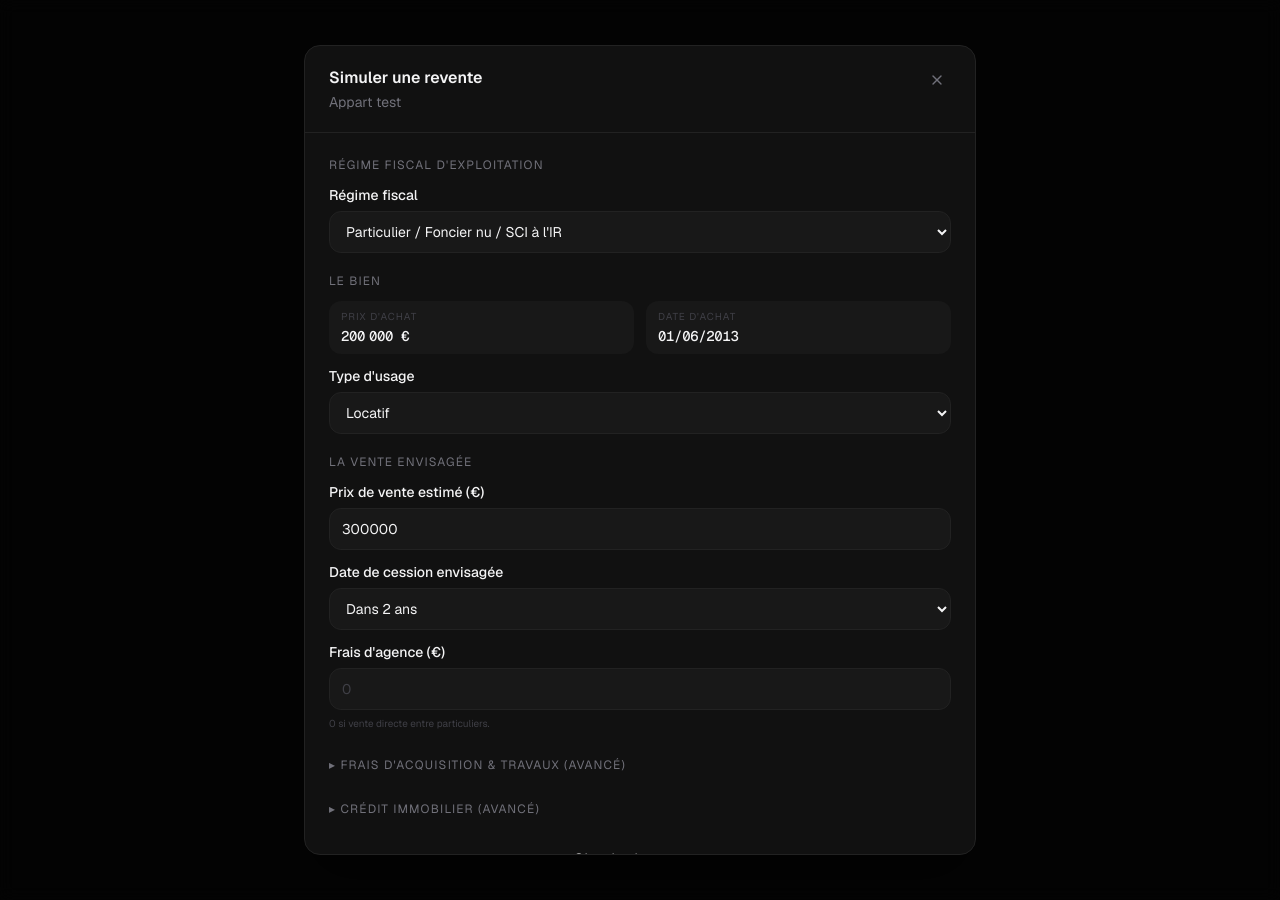
Test: <SimulationReventeModal> — sélecteur régime › sélection lmnp → champ amortissements + message LF 2025 visible
The width and height of the screenshot is (1280, 900).
Select "LMNP réel (loi finances 2025)" in the dropdown labelled "Régime fiscal" at coordinates (640, 232), box [329,211,951,253]
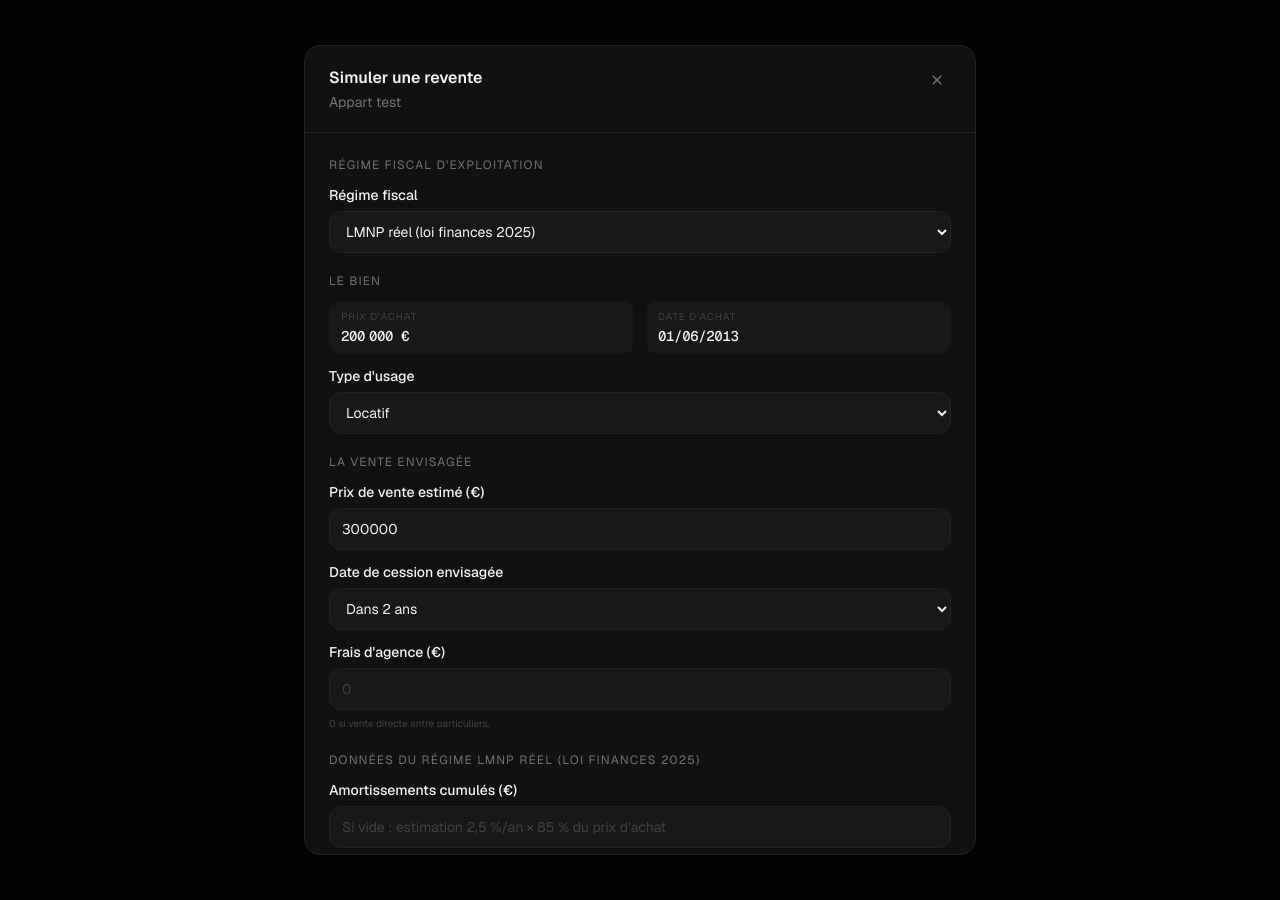
Expected: the number field labelled "Amortissements cumulés (€)" is shown, [329,806,951,848]
